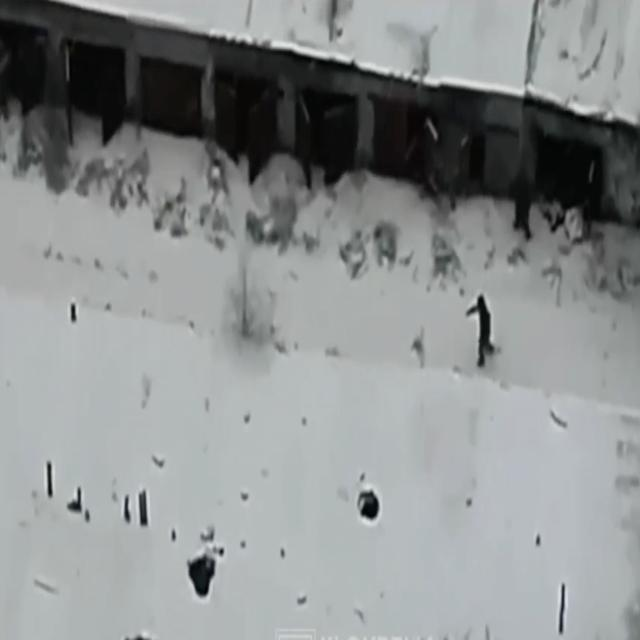infantry: (467, 292, 495, 365), (512, 162, 534, 240)
